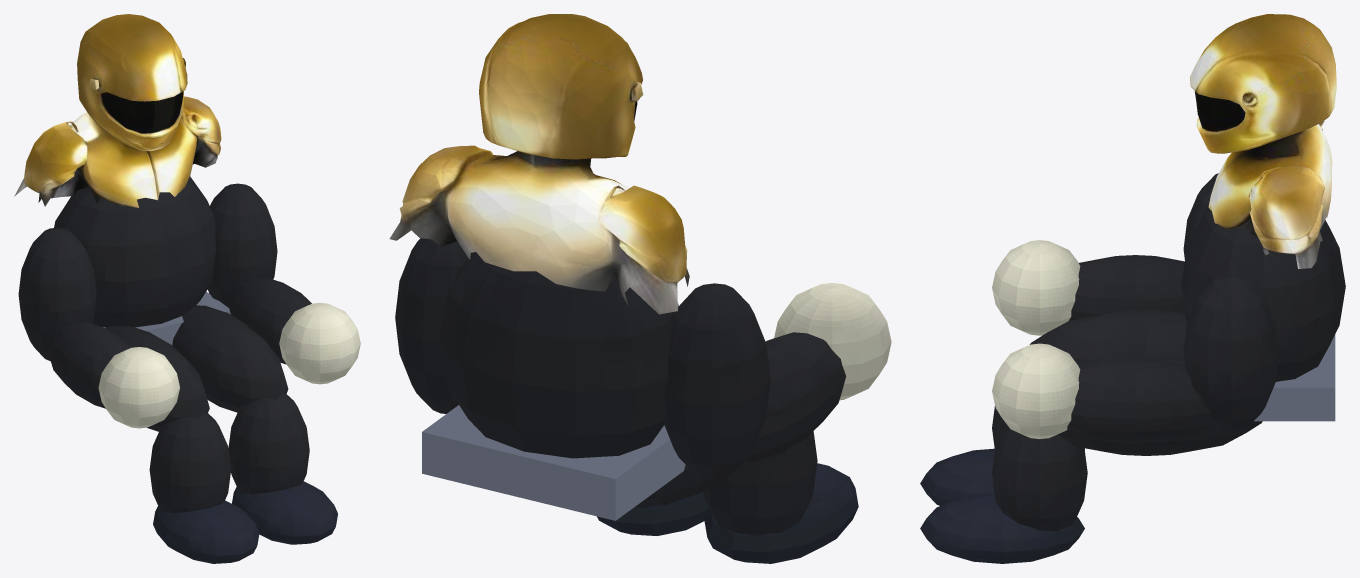
The model's file is champion.glb.
3 renders of one model, left to right at view 1: azimuth 30°, elevation 25°; view 2: azimuth 150°, elevation 25°; view 3: azimuth 270°, elevation 25°, orthographic. The views are drawn at different scales.
Parts seen in each view (by area): view 1: Helmet, Torso, RightThigh, LeftUpperArm, LeftShin, RightShin, RightUpperArm, LeftGlove, RightGlove, LeftBoot, RightBoot, LeftForearm (+3 smaller); view 2: Helmet, Torso, LeftUpperArm, Belt, RightUpperArm, LeftForearm, LeftShin, LeftGlove, LeftBoot, RightBoot, LeftThigh; view 3: Helmet, Torso, RightUpperArm, RightForearm, RightShin, RightBoot, RightGlove, LeftGlove, LeftForearm, LeftThigh, Belt, RightThigh (+2 smaller).
Part boxes in pixels (<box>): Helmet: <box>14,14,221,207</box>; Torso: <box>54,176,216,327</box>; RightThigh: <box>172,305,288,412</box>; LeftUpperArm: <box>18,227,96,361</box>; LeftShin: <box>149,412,231,513</box>; RightShin: <box>228,393,309,493</box>; RightUpperArm: <box>207,183,277,307</box>; LeftGlove: <box>98,347,179,428</box>; RightGlove: <box>279,303,360,384</box>; LeftBoot: <box>153,500,259,563</box>; RightBoot: <box>232,481,337,544</box>; LeftForearm: <box>47,321,131,408</box>; Helmet: <box>389,14,689,314</box>; Torso: <box>439,252,678,458</box>; LeftUpperArm: <box>664,283,770,478</box>; Belt: <box>422,405,685,520</box>; RightUpperArm: <box>395,238,471,413</box>; LeftForearm: <box>743,332,846,462</box>; LeftShin: <box>703,431,817,535</box>; LeftGlove: <box>774,283,891,400</box>; LeftBoot: <box>704,463,858,563</box>; RightBoot: <box>597,491,708,535</box>; LeftThigh: <box>637,463,742,505</box>; Helmet: <box>1190,14,1336,268</box>; Torso: <box>1181,207,1345,381</box>; RightUpperArm: <box>1183,274,1279,431</box>; RightForearm: <box>1066,358,1215,443</box>; RightShin: <box>992,423,1087,531</box>; RightBoot: <box>920,493,1084,563</box>; RightGlove: <box>992,343,1080,439</box>; LeftGlove: <box>992,240,1080,335</box>; LeftForearm: <box>1069,255,1185,320</box>; LeftThigh: <box>1030,310,1186,363</box>; Belt: <box>1254,334,1335,421</box>; RightThigh: <box>1058,355,1262,455</box>.
Bounding box in the file's own units: 0.64 × 1.06 × 0.8.
Materials: 15 (14 with a texture image).
